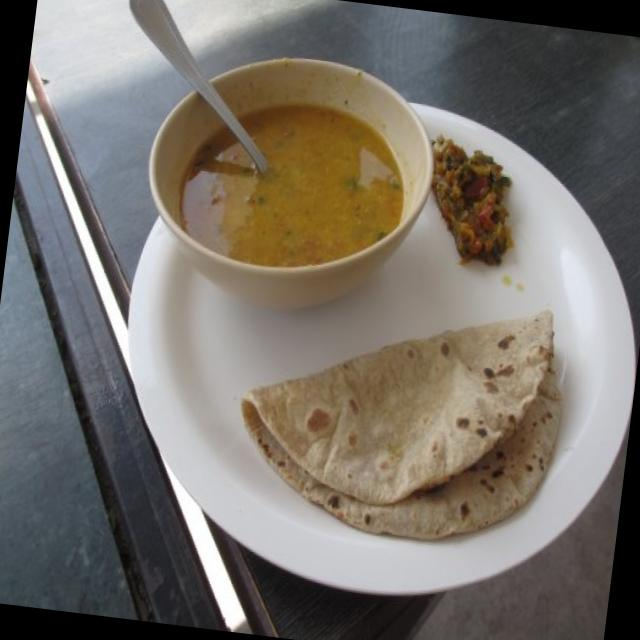dal: (178, 100, 403, 267)
roti: (236, 313, 553, 539)
